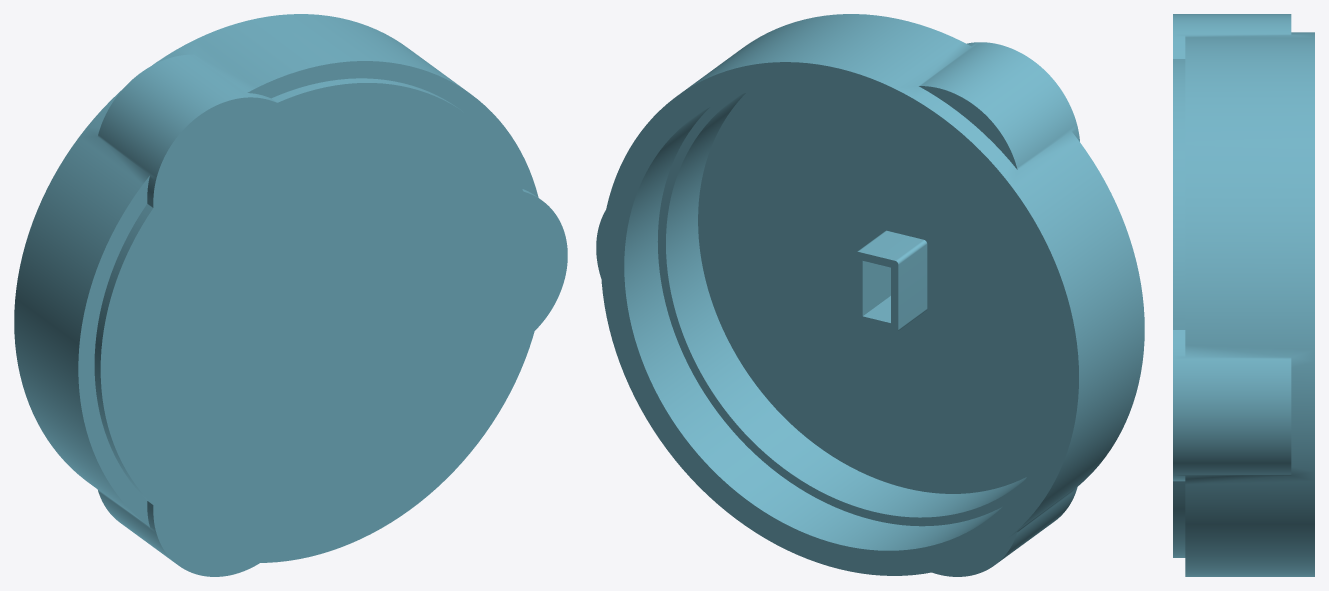
File: Cap_rounded_triangle.glb
3 renders of one model, left to right at view 1: azimuth 30°, elevation 25°; view 2: azimuth 150°, elevation 25°; view 3: azimuth 270°, elevation 25°, orthographic. The views are drawn at different scales.
Parts seen in each view (by area): view 1: Cap_rounded_triangle_0; view 2: Cap_rounded_triangle_0; view 3: Cap_rounded_triangle_0.
Boxes of the visible parts, x1=… form: Cap_rounded_triangle_0: x1=14, y1=14, x2=567, y2=576; Cap_rounded_triangle_0: x1=596, y1=14, x2=1144, y2=576; Cap_rounded_triangle_0: x1=1173, y1=14, x2=1314, y2=576.
Bounding box in the file's own units: 59.6 × 57.6 × 15.
